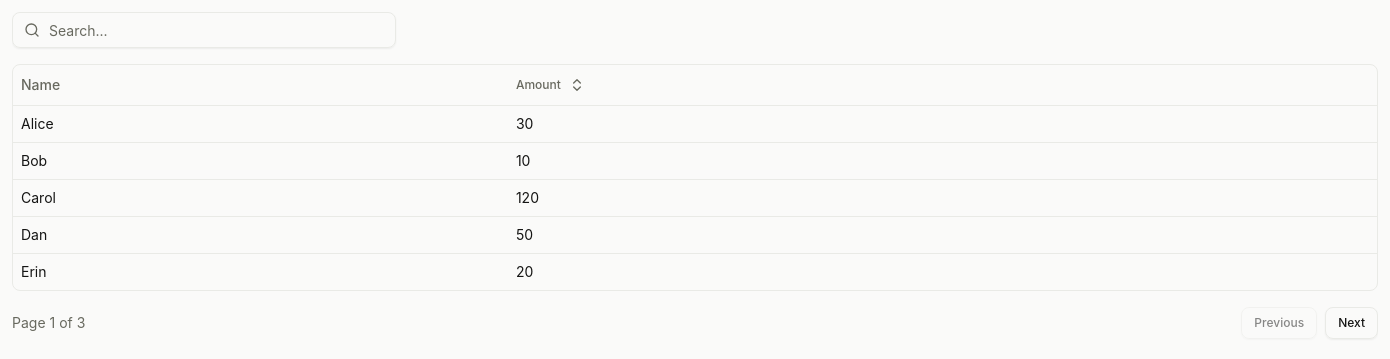
it: DataTable › pages the rows, and disables Previous on the first page and Next on the last
Expected: the text "Page 1 of 3" is shown, [12, 312, 85, 332]
Expected: the button "Previous" is disabled, [1241, 306, 1317, 338]
Click the button "Next": point(1352, 322) [1325, 306, 1378, 338]
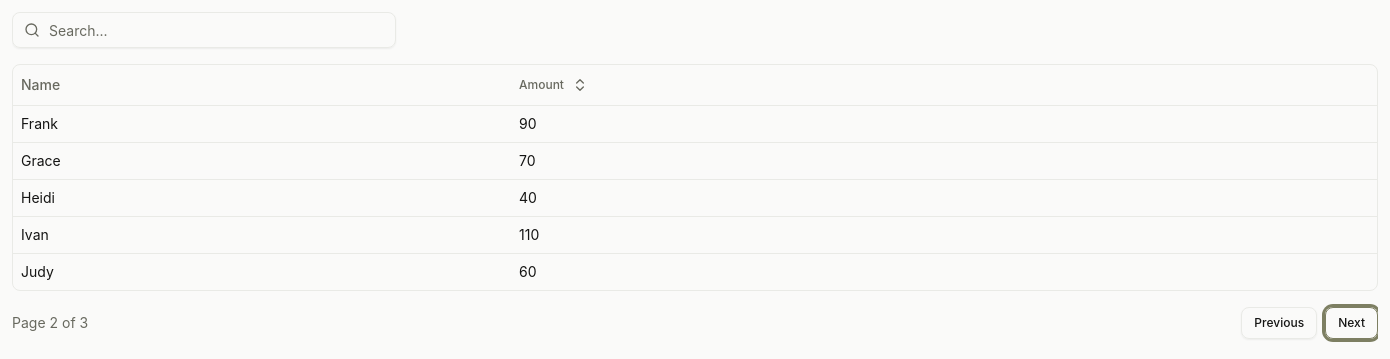
Click the button "Next": point(1352, 322) [1325, 306, 1378, 338]
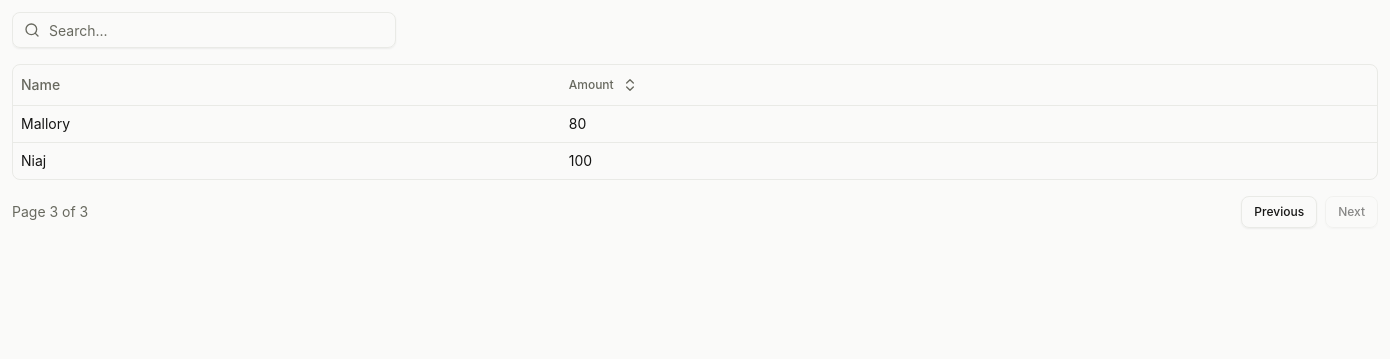
Expected: the button "Previous" is enabled, [1241, 196, 1317, 228]
Expected: the text "Page 3 of 3" is shown, [12, 202, 88, 222]
Expected: the button "Next" is disabled, [1325, 196, 1378, 228]
